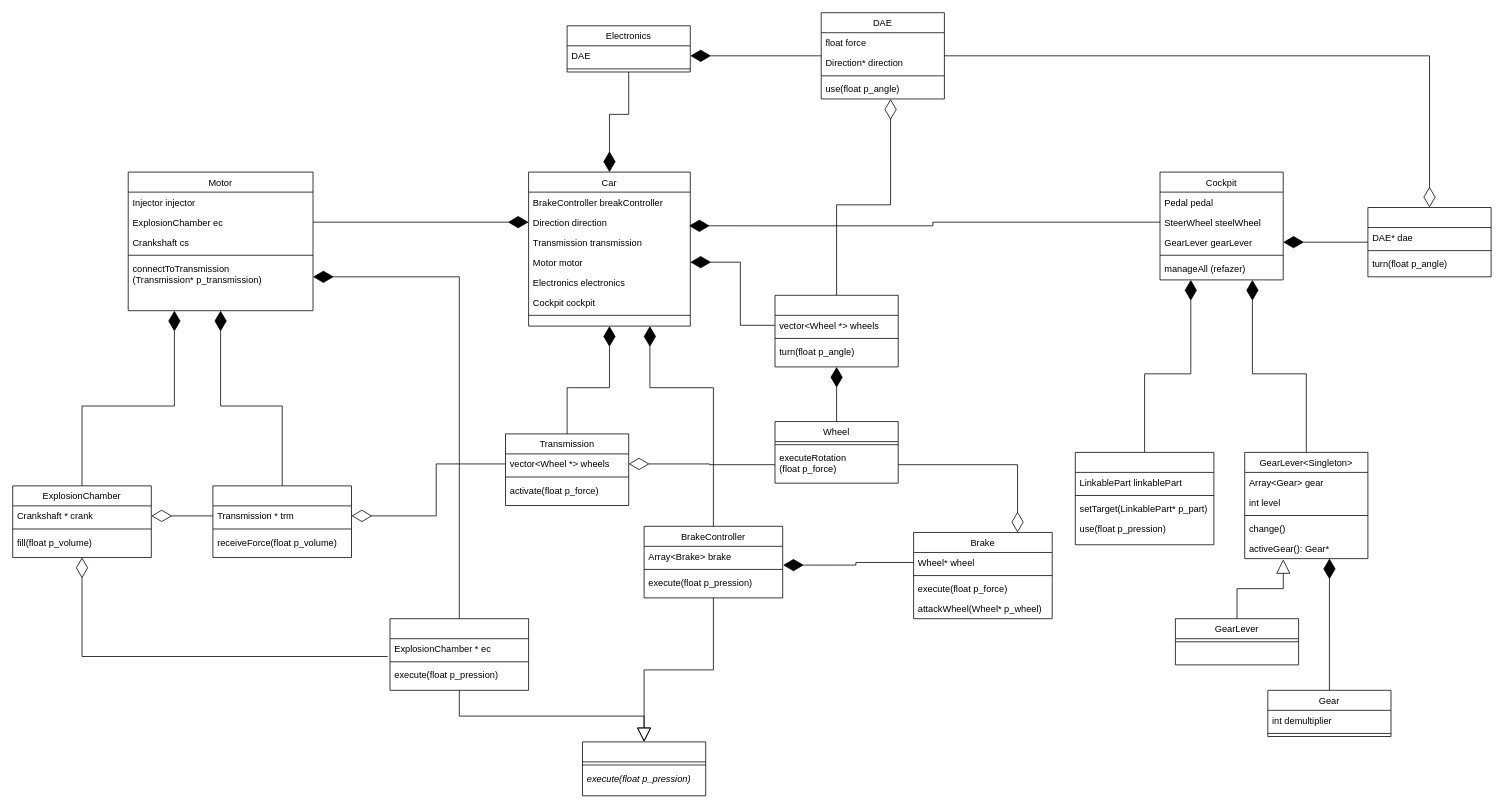
The diagram is 1504 pixels wide and 809 high, and some of its shapes have lost their labels. The box of each missing label's shape, as (x1, y1, x2, y2) in pixels:
Crankshaft: (212, 485, 352, 557)
Direction: (774, 295, 898, 367)
Injector: (389, 618, 529, 690)
LinkablePart: (582, 741, 706, 796)
Pedal: (1075, 452, 1214, 545)
SteerWheel: (1367, 207, 1491, 277)
